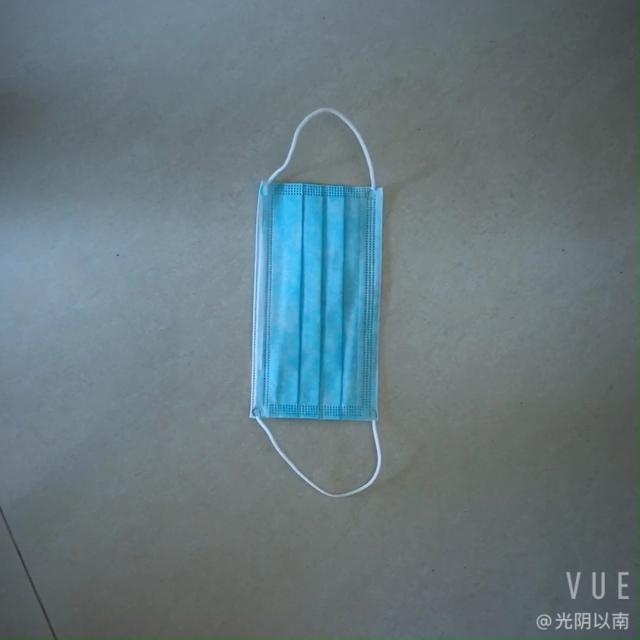face mask: (238, 162, 400, 428)
